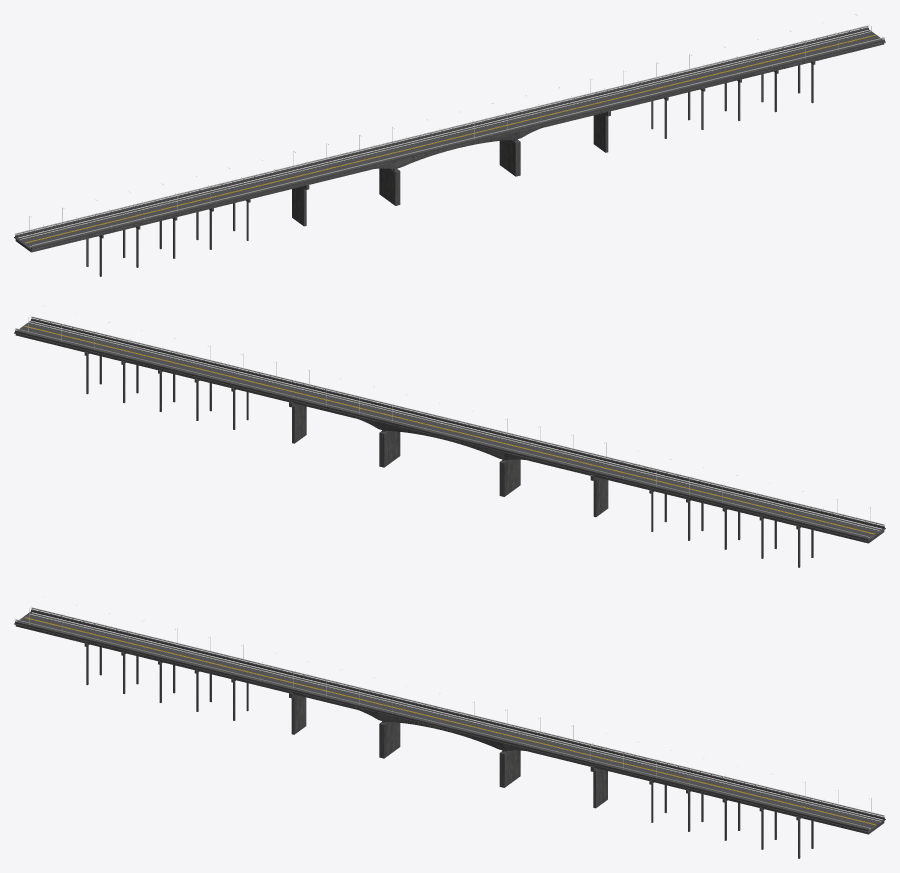
3 views of the same model, one above another, from view 1: azimuth 30°, elevation 25°; view 2: azimuth 150°, elevation 25°; view 3: azimuth 330°, elevation 25° (orthographic).
Visible parts, largest first — view 1: 路面.1-水泥路面 (×3), 围栏, 围栏圆柱体, 桥面, 路面.1-Material #174 (×2), 立方体.3, 路面.1-huang, 中间次桥墩, 路面.1-材质.3, 挤压; view 2: 路面.1-水泥路面 (×3), 围栏, 围栏圆柱体, 桥面, 路面.1-Material #174 (×2), 立方体.3, 路面.1-huang, 中间次桥墩, 路面.1-材质.3, 挤压; view 3: 路面.1-水泥路面 (×3), 围栏, 围栏圆柱体, 桥面, 路面.1-Material #174 (×2), 立方体.3, 路面.1-huang, 中间次桥墩, 路面.1-材质.3, 挤压.
Boxes of the visible parts, box(x1,y1,x2,y2) form: 路面.1-水泥路面 (×3): box(18, 30, 881, 247); 围栏: box(15, 27, 884, 249); 围栏圆柱体: box(15, 25, 884, 246); 桥面: box(14, 29, 885, 252); 路面.1-Material #174 (×2): box(18, 30, 870, 246); 立方体.3: box(379, 140, 520, 205); 路面.1-huang: box(25, 35, 875, 243); 中间次桥墩: box(292, 110, 610, 226); 路面.1-材质.3: box(25, 35, 875, 242); 挤压: box(375, 117, 525, 168); 路面.1-水泥路面 (×3): box(18, 321, 880, 538); 围栏: box(15, 318, 884, 540); 围栏圆柱体: box(15, 316, 884, 537); 桥面: box(14, 320, 885, 543); 路面.1-Material #174 (×2): box(29, 321, 881, 537); 立方体.3: box(379, 431, 520, 496); 路面.1-huang: box(24, 325, 874, 534); 中间次桥墩: box(289, 401, 608, 517); 路面.1-材质.3: box(24, 326, 873, 533); 挤压: box(374, 408, 524, 459); 路面.1-水泥路面 (×3): box(20, 613, 881, 829); 围栏: box(15, 609, 884, 831); 围栏圆柱体: box(15, 607, 884, 828); 桥面: box(14, 611, 885, 834); 路面.1-Material #174 (×2): box(30, 612, 882, 828); 立方体.3: box(379, 722, 520, 787); 路面.1-huang: box(25, 617, 875, 825); 中间次桥墩: box(289, 692, 607, 808); 路面.1-材质.3: box(25, 617, 875, 824); 挤压: box(374, 699, 523, 750).
Bounding box in the file's own units: 11635 × 841 × 421.
10 materials, 1 textured.
